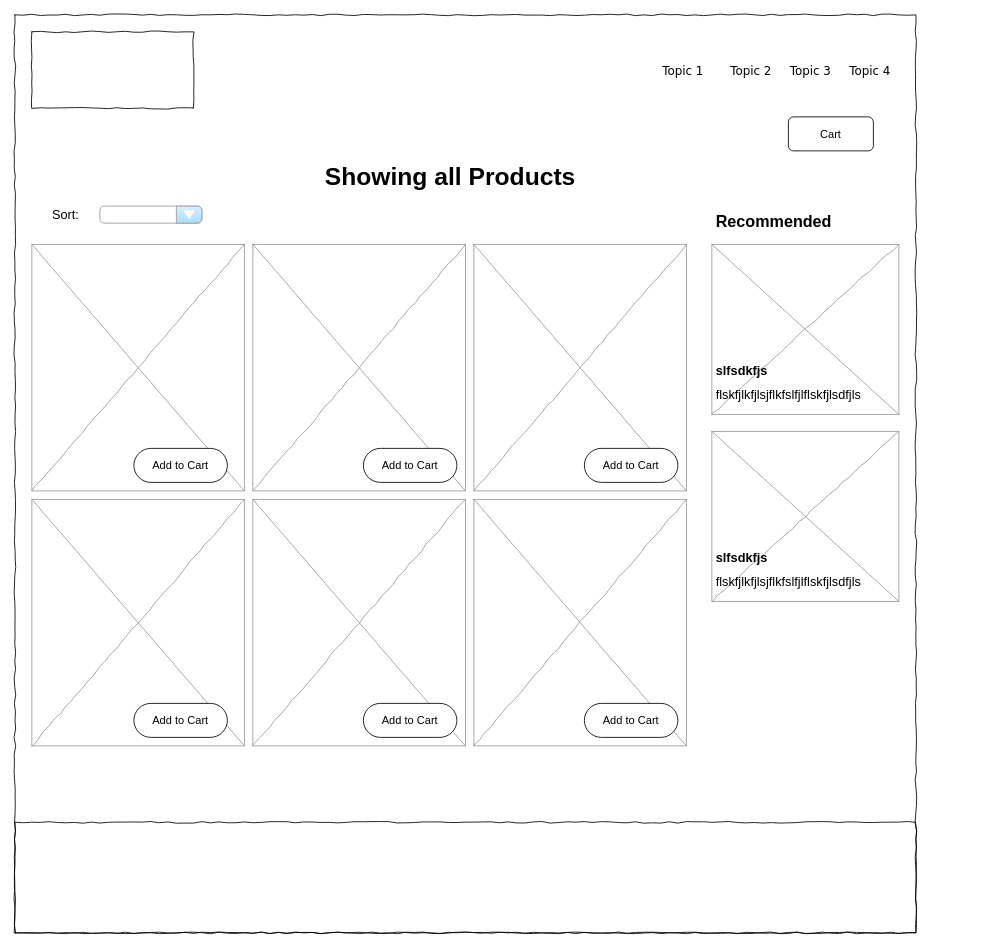
Some shapes in this 982 by 948 pixel diagram are drawn without their labels. Each missing label, with the centre of its shape:
footer: (465,877)
LOGO: (112,69)
Option 1: (150,214)
